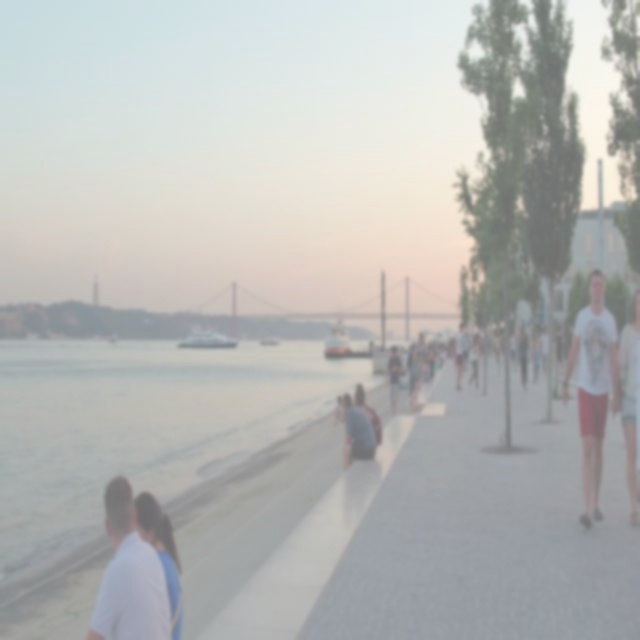pessoa: (561, 268, 621, 531), (85, 473, 174, 639), (133, 489, 184, 639), (609, 289, 639, 528), (341, 392, 377, 470), (352, 381, 380, 448), (384, 343, 404, 421), (408, 330, 424, 410), (424, 328, 456, 368), (476, 326, 510, 358), (467, 332, 482, 390), (454, 321, 466, 392), (518, 324, 530, 391), (406, 343, 416, 396), (532, 329, 542, 382), (541, 325, 550, 375), (460, 328, 470, 372), (418, 354, 431, 384), (332, 394, 344, 426), (424, 352, 436, 380), (452, 332, 460, 372), (556, 324, 564, 364), (508, 331, 516, 368), (396, 371, 406, 396), (397, 340, 415, 352), (401, 348, 408, 378), (514, 334, 520, 366), (402, 369, 410, 392), (529, 332, 535, 362), (494, 330, 499, 362), (468, 330, 476, 350), (374, 341, 384, 352), (450, 334, 454, 349)
